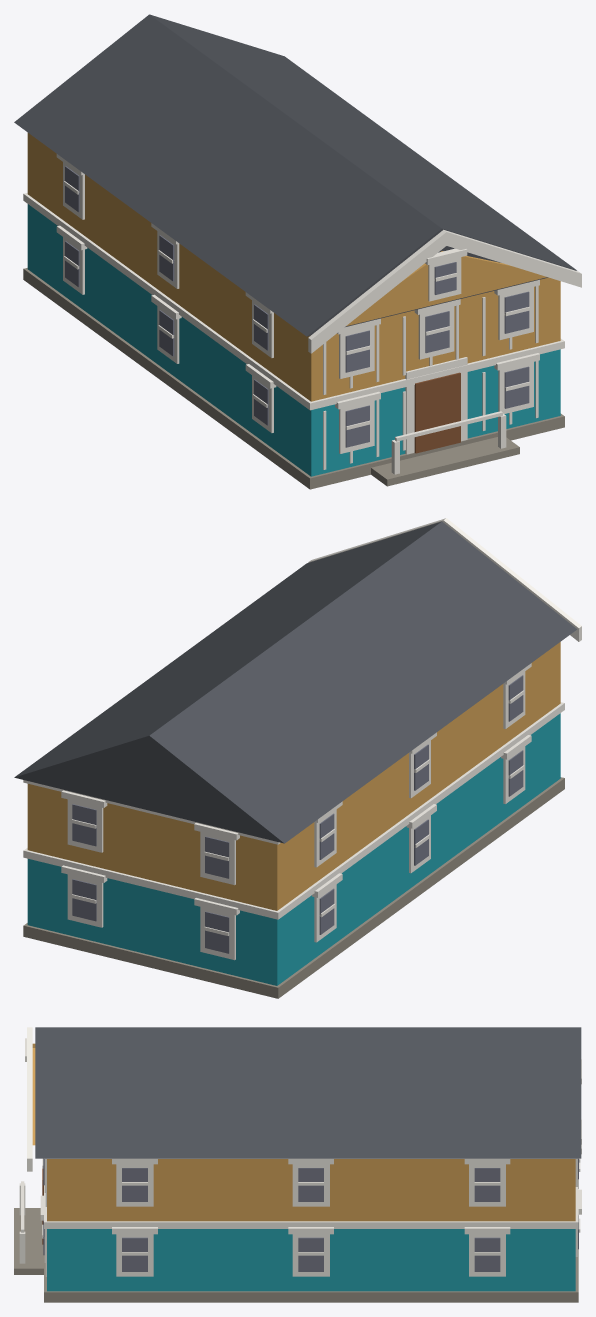
The model's file is house-1x2-2f-valparaiso-a.glb.
3 renders of one model, top to bottom at view 1: azimuth 30°, elevation 25°; view 2: azimuth 150°, elevation 25°; view 3: azimuth 270°, elevation 25°, orthographic. The views are drawn at different scales.
Visible parts, largest first — view 1: house-1x2-2f-valparaiso-a; view 2: house-1x2-2f-valparaiso-a; view 3: house-1x2-2f-valparaiso-a.
Part boxes in pixels (<box>): house-1x2-2f-valparaiso-a: <box>14,14,581,489</box>; house-1x2-2f-valparaiso-a: <box>14,518,581,998</box>; house-1x2-2f-valparaiso-a: <box>14,1027,581,1302</box>.
Size of the model in its own units: 1.02 by 0.84 by 1.99.
Materials: 1 (1 with a texture image).
